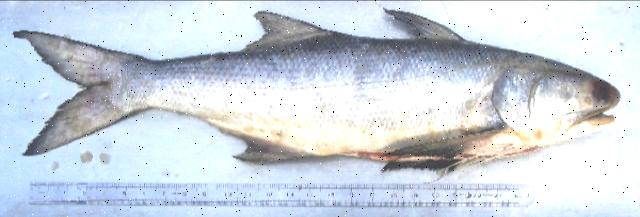Mulut: (544, 79, 640, 143)
Sirip Anal: (225, 127, 305, 182)
Sirip Dada: (375, 117, 513, 161)
Sirip Ekor: (5, 17, 166, 161)
Sirip Punggung: (237, 2, 477, 66)
